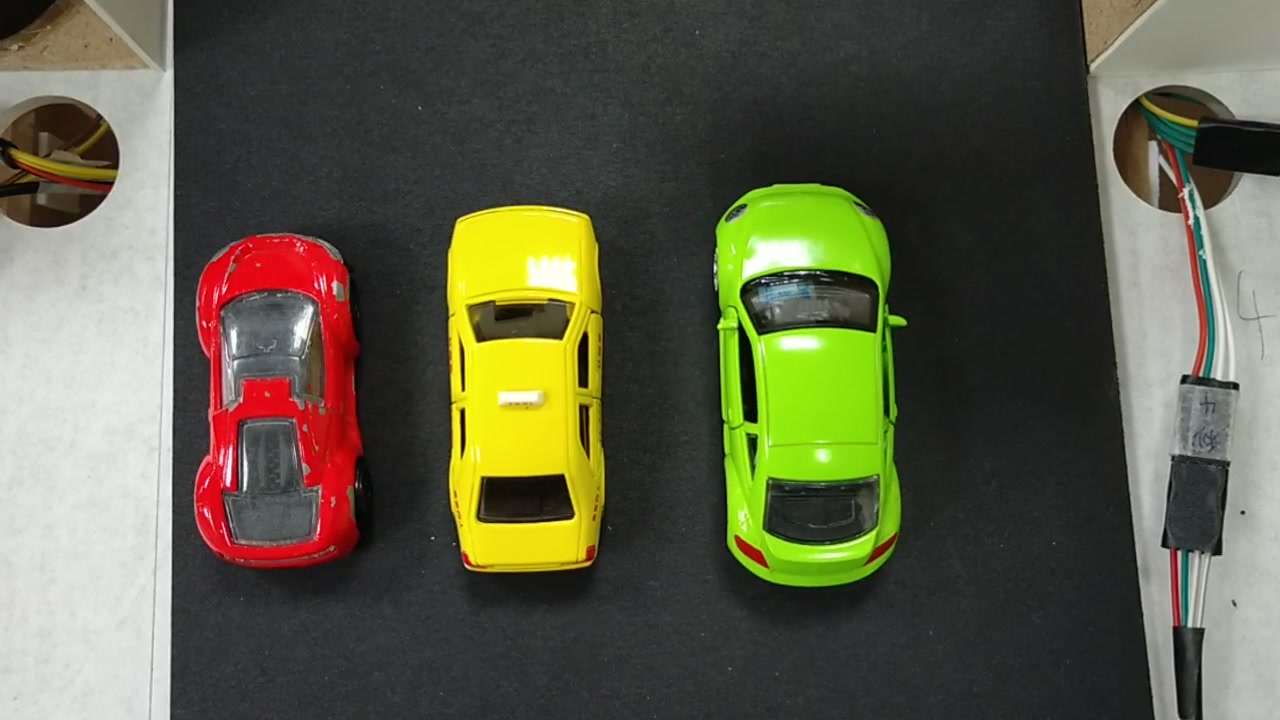car: (715, 193, 911, 579), (432, 206, 615, 581), (185, 238, 370, 562)
